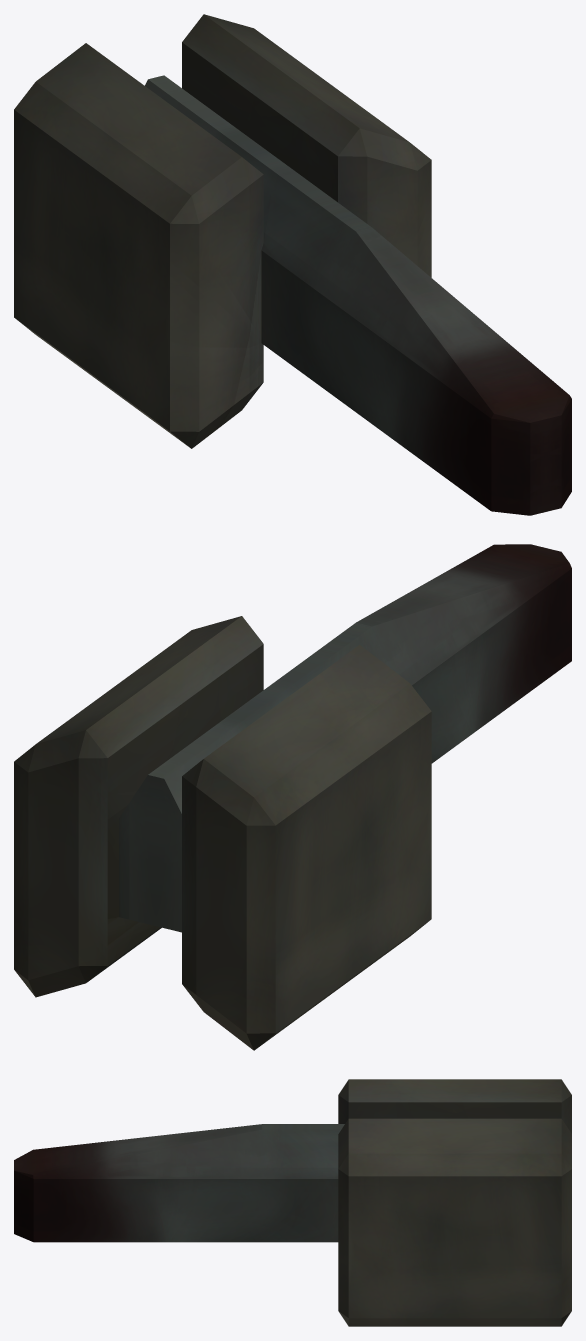
The model's file is sentry_01.fbx.
The picture shows the model from 3 angles, top to bottom: view 1: azimuth 30°, elevation 25°; view 2: azimuth 150°, elevation 25°; view 3: azimuth 270°, elevation 25°; orthographic projection. The views are drawn at different scales.
Parts seen in each view (by area): view 1: Cube; view 2: Cube; view 3: Cube.
Boxes of the visible parts, <box> form: Cube: <box>14,14,571,515</box>; Cube: <box>14,544,571,1050</box>; Cube: <box>14,1079,571,1326</box>.
Size of the model in its own units: 32.45 by 33.13 by 87.7.
1 material, 1 textured.
